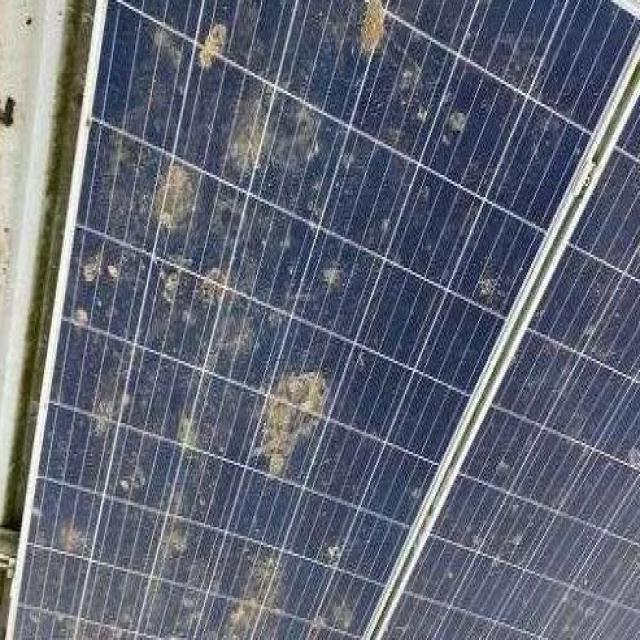soiled: (26, 0, 639, 638)
